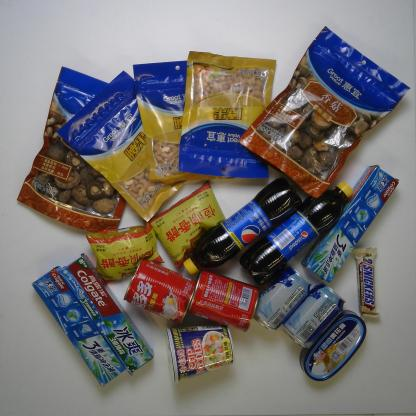Alcohol: (281, 283, 346, 351), (252, 264, 312, 332)
Canned Food: (123, 256, 199, 326), (298, 310, 367, 382), (186, 267, 260, 334)
Chocolate: (351, 246, 380, 322)
Dried Food: (238, 25, 412, 200), (13, 69, 140, 235)
Dried Fruit: (56, 69, 198, 224), (176, 50, 279, 181), (132, 60, 238, 184)
Drink: (240, 180, 354, 287), (181, 177, 302, 277)
Instant Noodles: (164, 322, 235, 386)
Personal Hygiene: (300, 164, 400, 284), (30, 265, 127, 388), (58, 252, 154, 376)
Seasoner: (148, 178, 228, 270), (85, 217, 164, 283)
